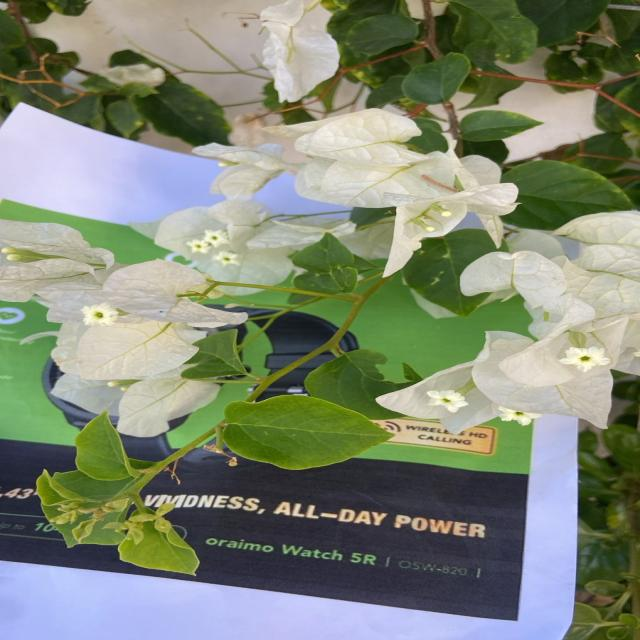Oraimo Watch 5R OSW-820: (196, 532, 489, 581)
